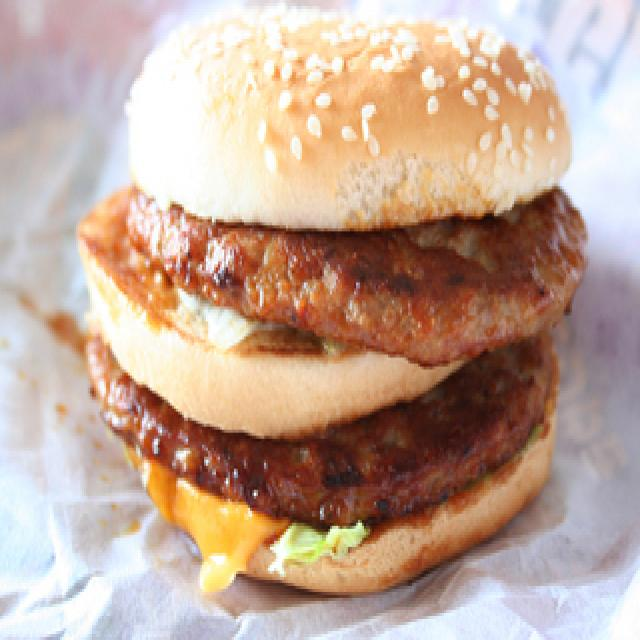汉堡快餐: (68, 0, 596, 598)
